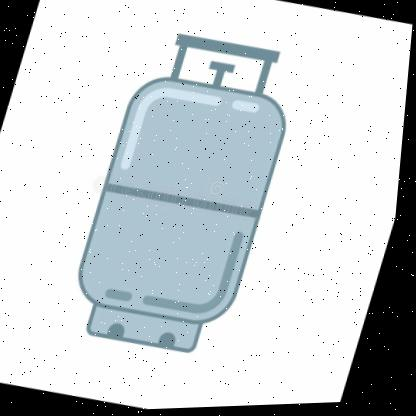gas-tank: (40, 11, 341, 395)
